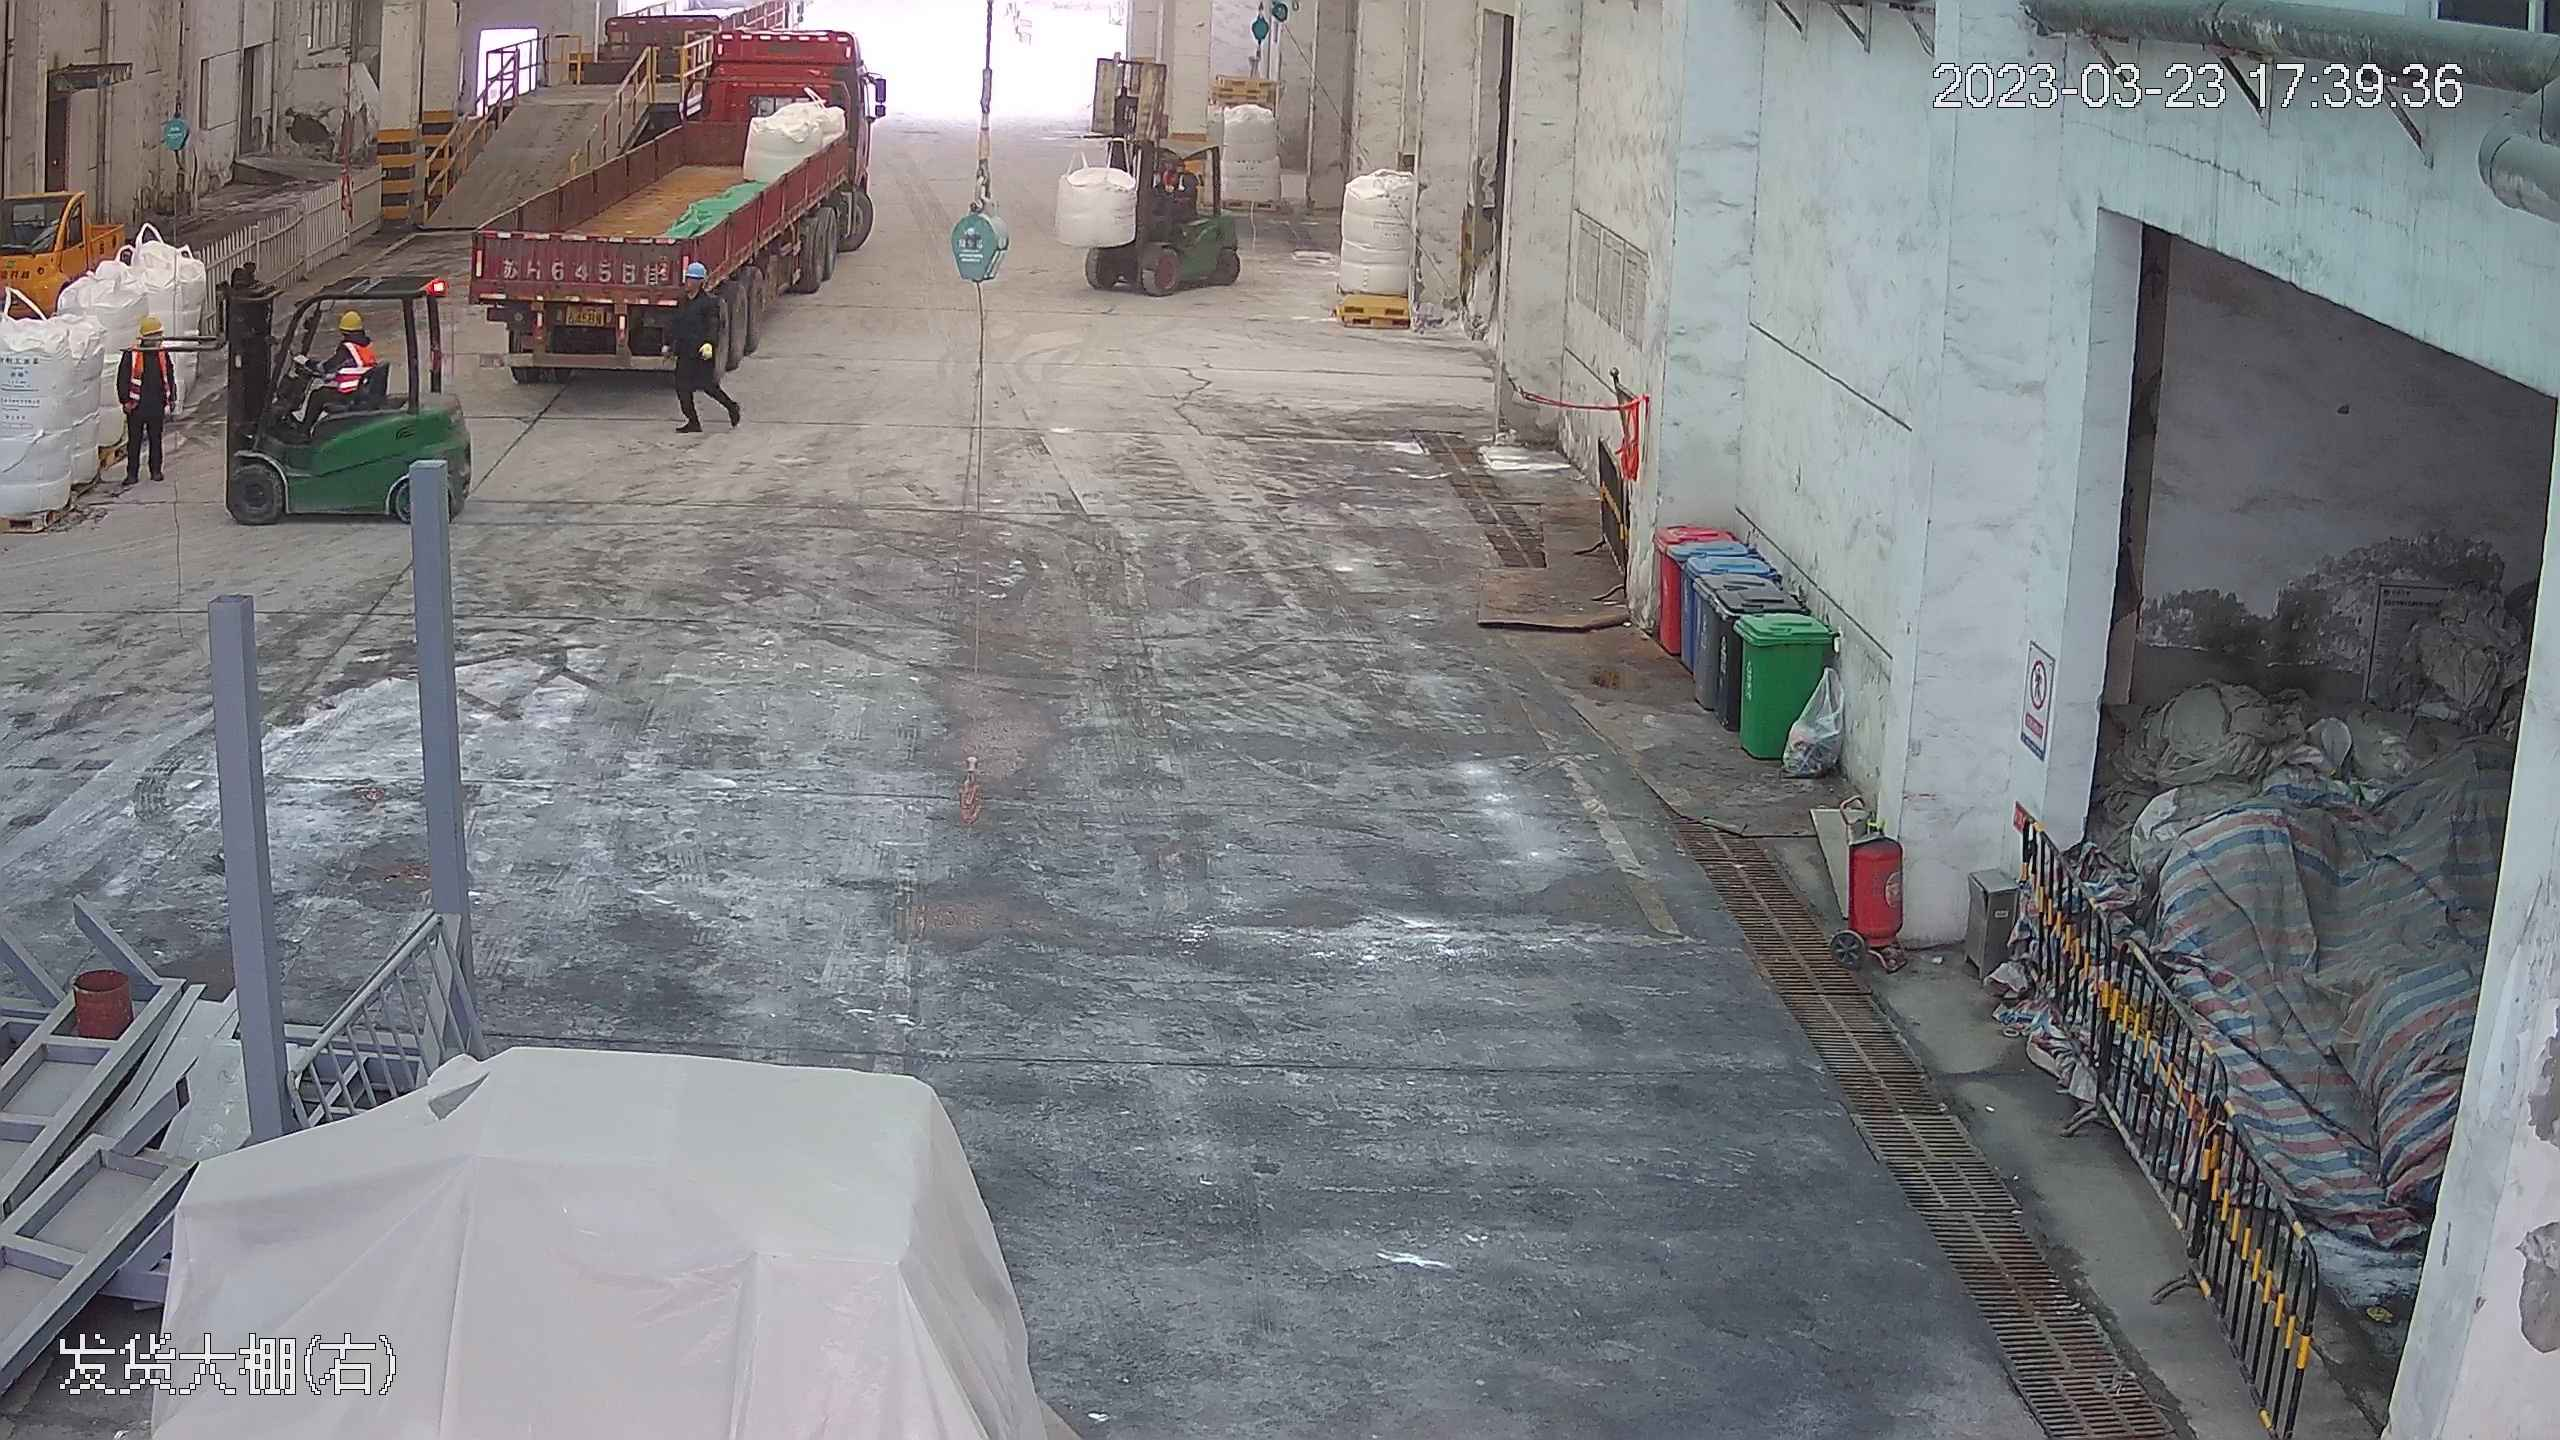head: (671, 258, 720, 323), (118, 313, 172, 371), (327, 307, 372, 363), (418, 272, 451, 318)
helmet: (337, 309, 366, 335), (137, 314, 164, 338), (425, 275, 448, 294)
people: (114, 311, 179, 483), (286, 305, 373, 430), (670, 281, 728, 435)
truck: (451, 13, 879, 402)
